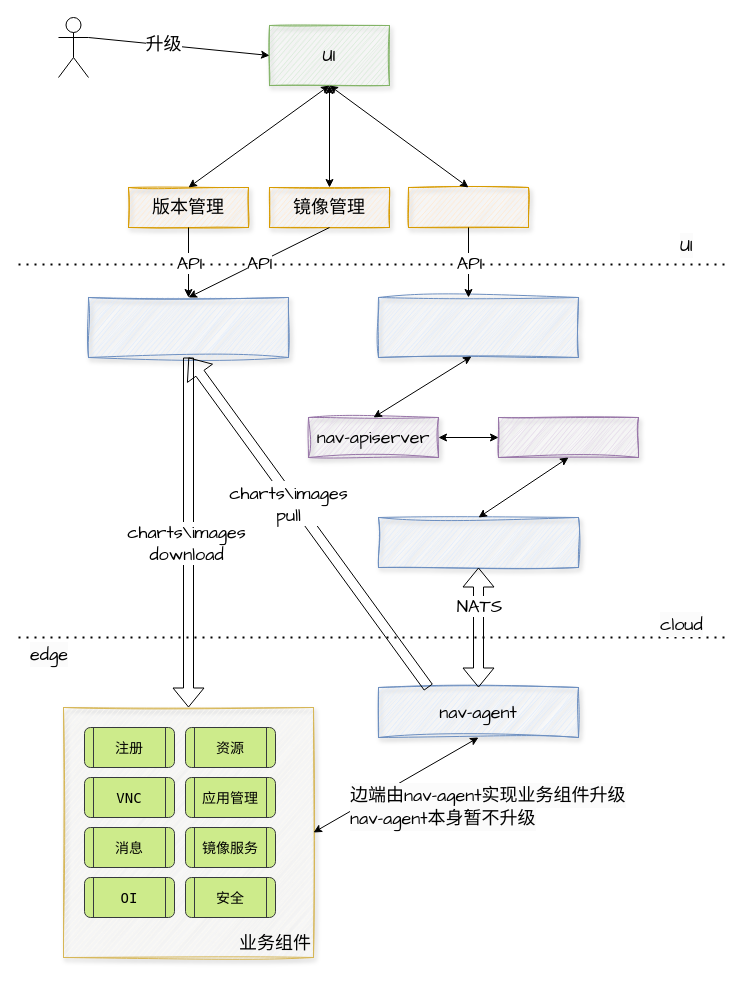
Some shapes in this 747 by 982 pixel diagram are drawn without their labels. The shapes that lost their labels are listed below. From the top down, each one's centre as x and y in pixels, then its label:
(73,47): 管理员
(469,208): 升级 回退
(189,328): harbor-imgsvr
(479,328): cloud-appmanager
(569,438): argo-workflow
(479,543): nav-cloud
